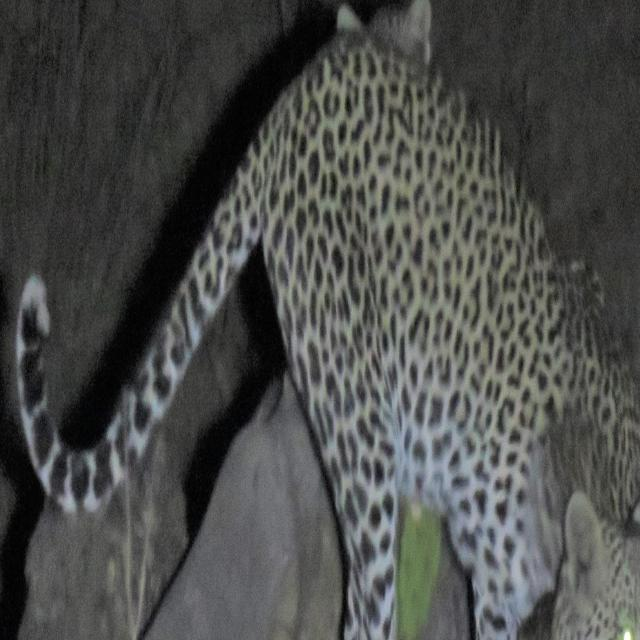Leopard: (0, 36, 640, 640)
